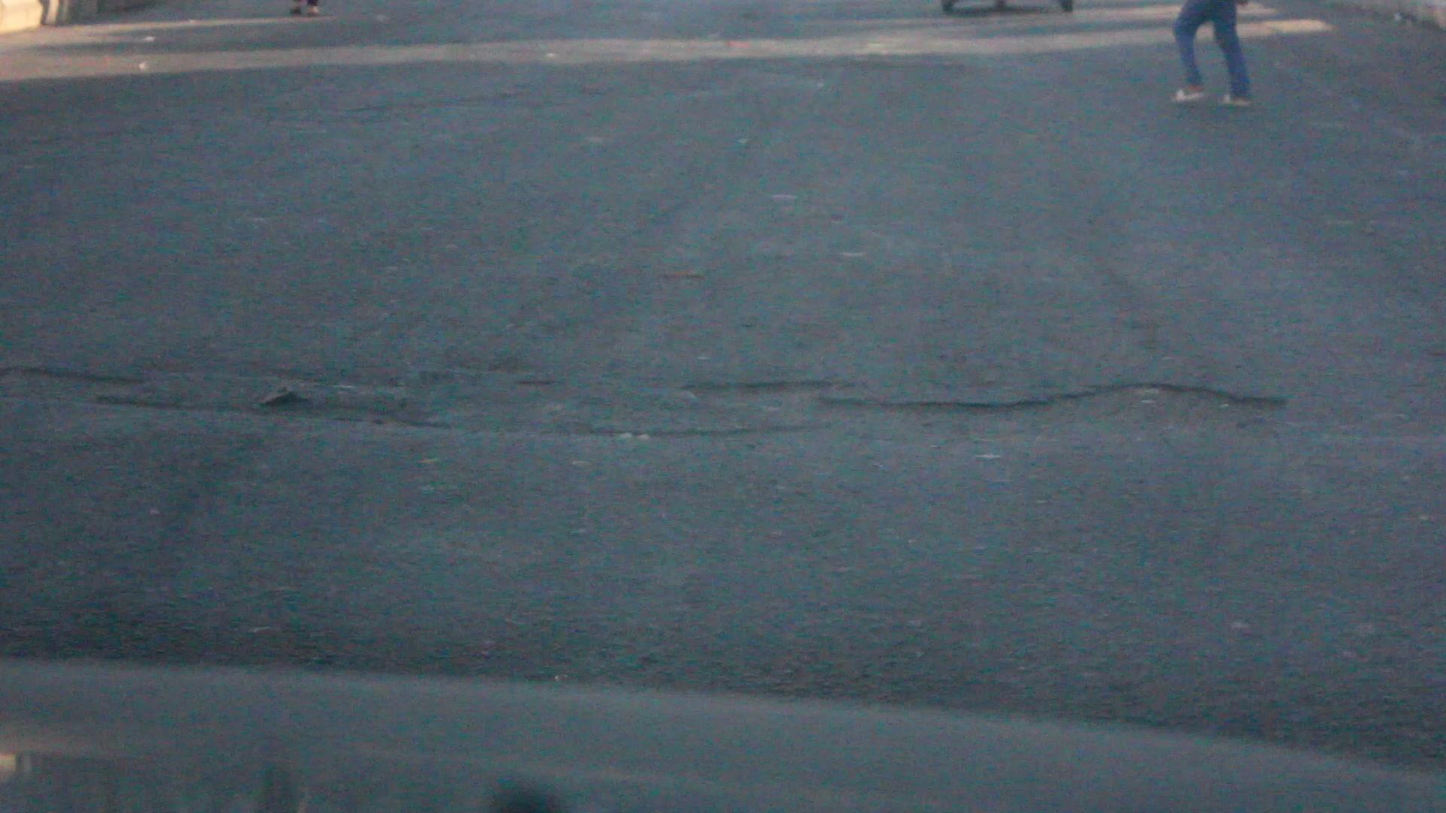Bump: (0, 450, 1446, 738)
Pothole: (678, 359, 1293, 446), (68, 359, 610, 454)
